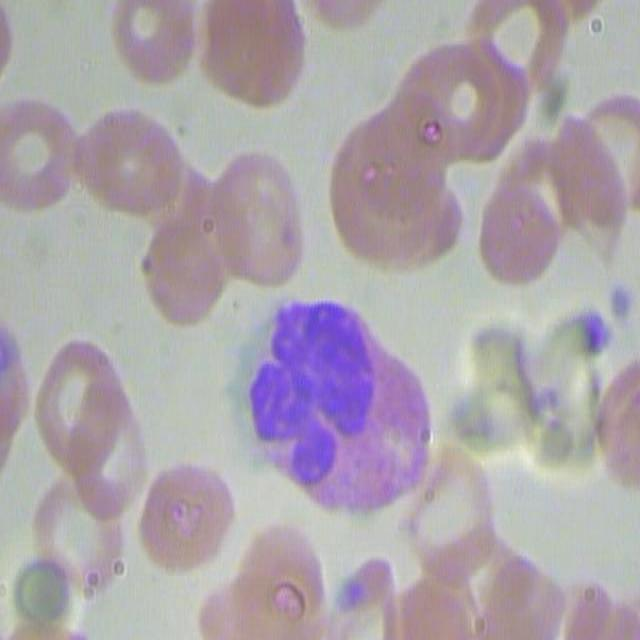RBC: (329, 105, 463, 282), (38, 333, 152, 534), (510, 307, 622, 488), (387, 30, 526, 170), (479, 116, 578, 292), (66, 93, 195, 224), (205, 515, 331, 639), (207, 137, 307, 291), (188, 2, 304, 111), (137, 456, 240, 575), (141, 204, 229, 330), (404, 449, 501, 561), (32, 481, 124, 595), (0, 90, 77, 218), (582, 88, 640, 222), (104, 0, 198, 82), (473, 0, 564, 80), (331, 545, 403, 638), (595, 347, 640, 493), (0, 306, 30, 484)
WBC: (244, 288, 437, 533)
platelets: (576, 306, 616, 359), (606, 276, 640, 331)
